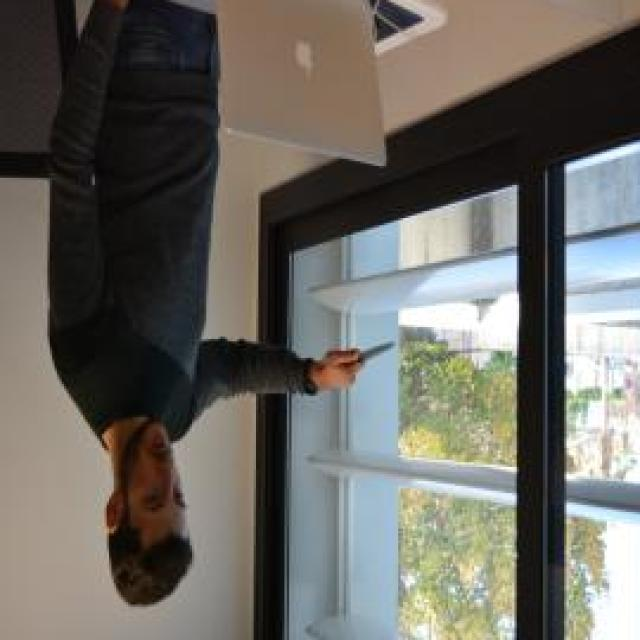knife: (344, 338, 399, 372)
